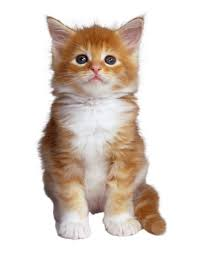Gato: (36, 7, 173, 244)
